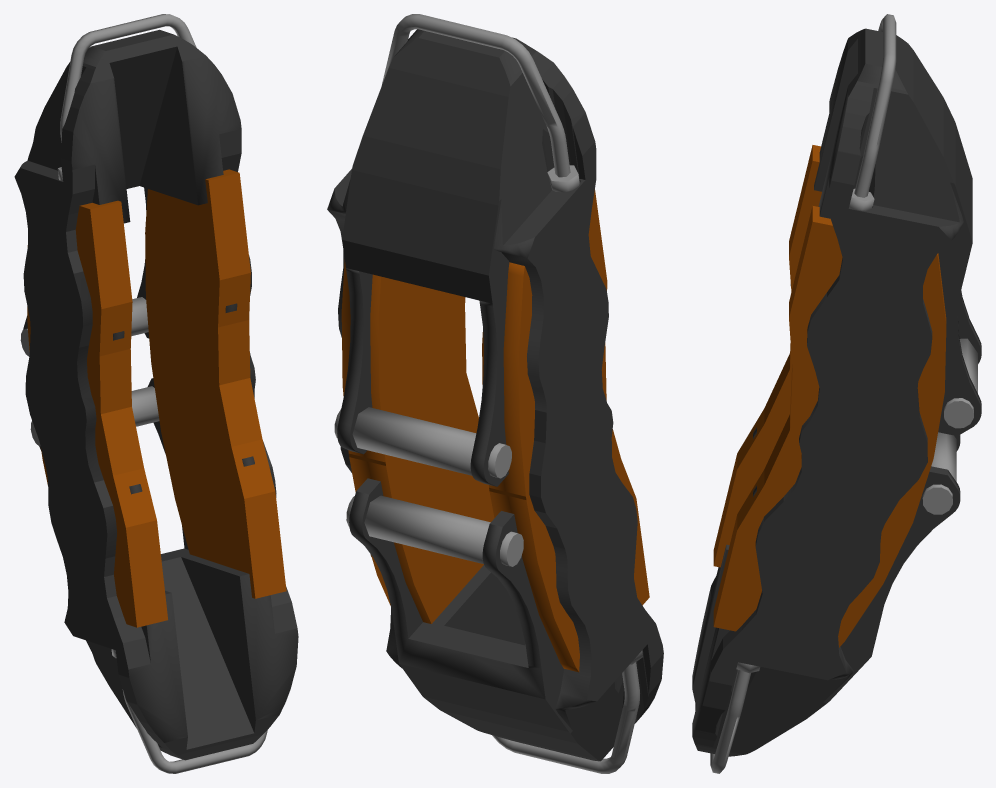
File: Calliper.fbx
3 views of the same model, side by side, from view 1: azimuth 30°, elevation 25°; view 2: azimuth 150°, elevation 25°; view 3: azimuth 270°, elevation 25° (orthographic). The views are drawn at different scales.
Visible parts, largest first — view 1: Calliper; view 2: Calliper; view 3: Calliper.
Part boxes in pixels (x1,y1,x2,y2): Calliper: (14,14,298,773); Calliper: (327,14,663,773); Calliper: (692,14,981,773).
Bounding box in the file's own units: 6.96 × 26.8 × 9.78.
